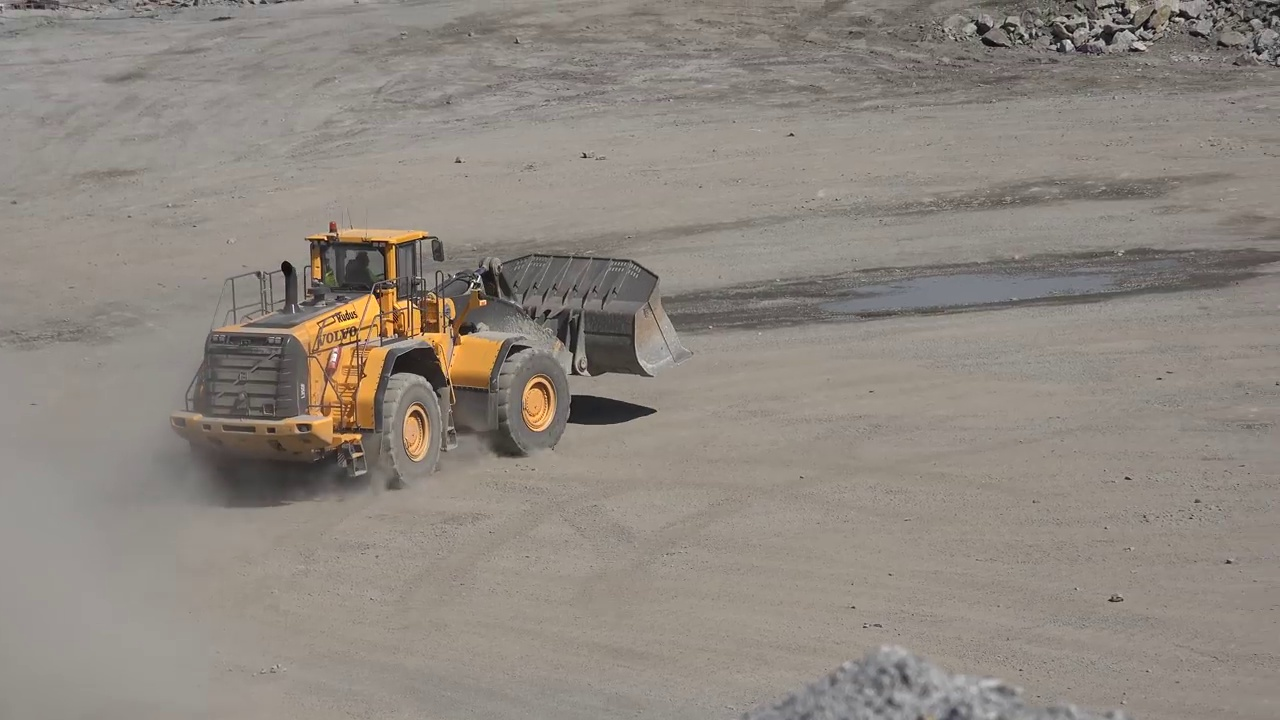wheel loader: (169, 223, 695, 486)
